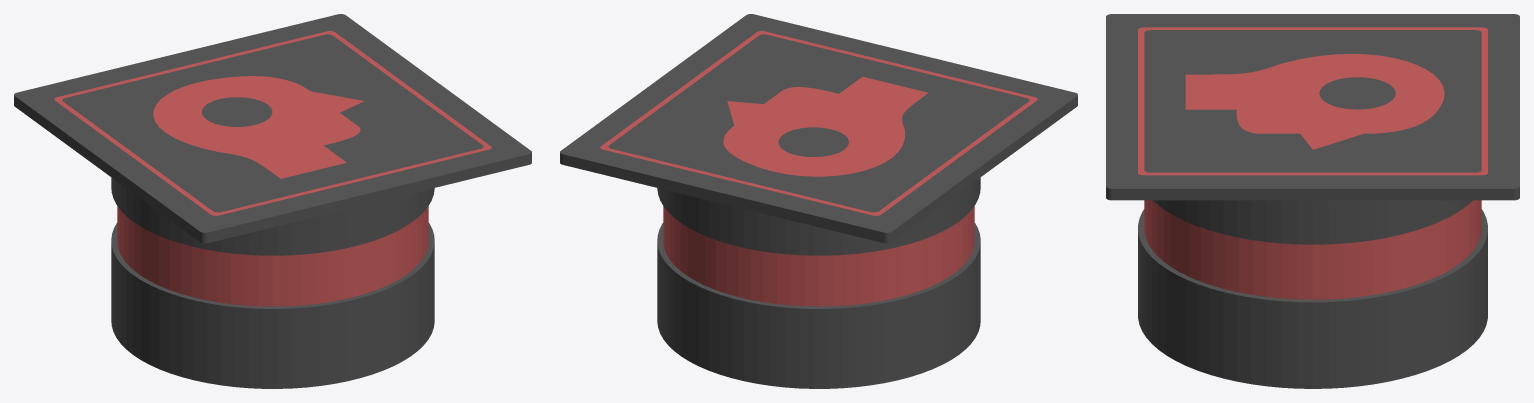
File: bomboniera-psicologia-facolta-montato.glb
3 renders of one model, left to right at view 1: azimuth 30°, elevation 25°; view 2: azimuth 150°, elevation 25°; view 3: azimuth 270°, elevation 25°, orthographic. The views are drawn at different scales.
Visible parts, largest first — view 1: struttura_coperchio, struttura_base, fascia, simbolo_intarsio, bordo; view 2: struttura_coperchio, struttura_base, fascia, simbolo_intarsio, bordo; view 3: struttura_coperchio, struttura_base, fascia, simbolo_intarsio, bordo.
Part boxes in pixels (<box>): struttura_coperchio: <box>14,14,531,255</box>; struttura_base: <box>111,223,434,388</box>; fascia: <box>117,206,428,306</box>; simbolo_intarsio: <box>153,76,363,178</box>; bordo: <box>54,31,491,215</box>; struttura_coperchio: <box>560,14,1077,255</box>; struttura_base: <box>657,223,980,388</box>; fascia: <box>663,206,974,306</box>; simbolo_intarsio: <box>723,76,928,176</box>; bordo: <box>600,31,1037,215</box>; struttura_coperchio: <box>1106,14,1519,244</box>; struttura_base: <box>1138,209,1487,388</box>; fascia: <box>1144,200,1481,299</box>; simbolo_intarsio: <box>1185,54,1444,149</box>; bordo: <box>1138,27,1487,175</box>.
Bounding box in the file's own units: 0.065 × 0.037 × 0.065.
